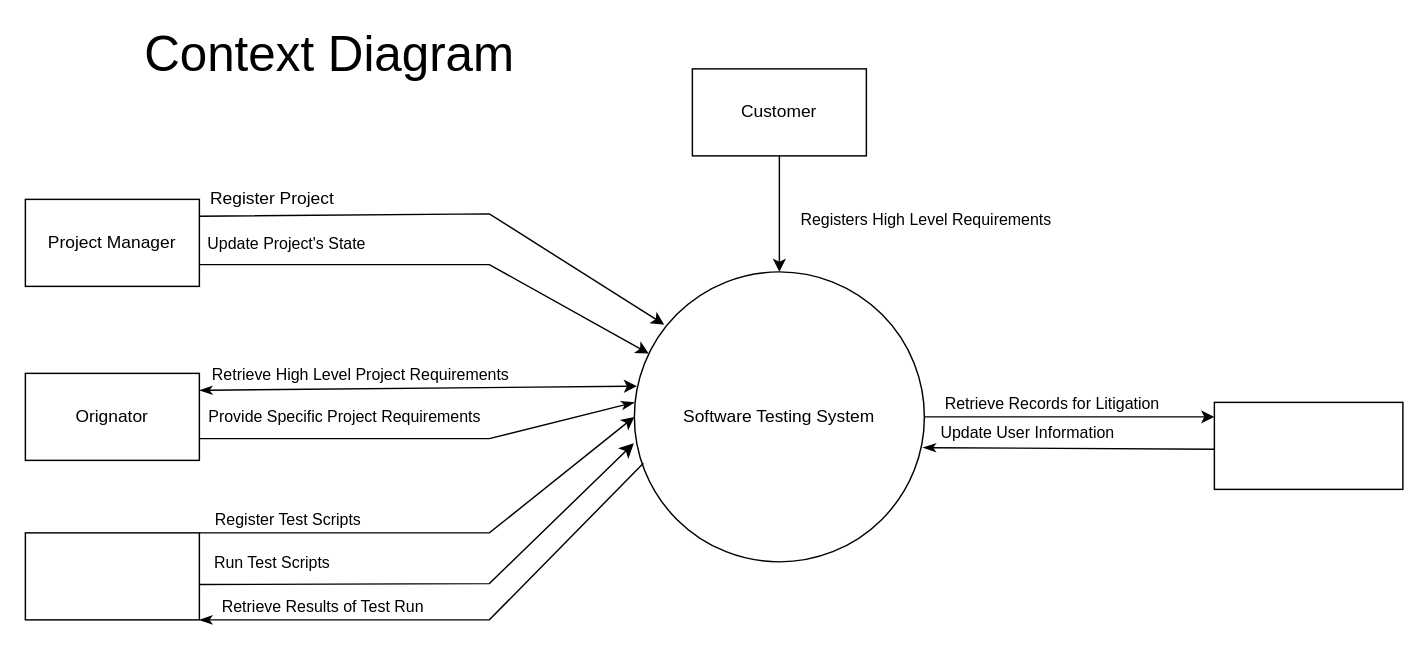
Some shapes in this 1428 by 657 pixel diagram are drawn without their labels. The box of each missing label's shape, as (x1, y1, x2, y2) in pixels:
System Admin: (1213, 401, 1403, 489)
Tester: (24, 531, 199, 620)
